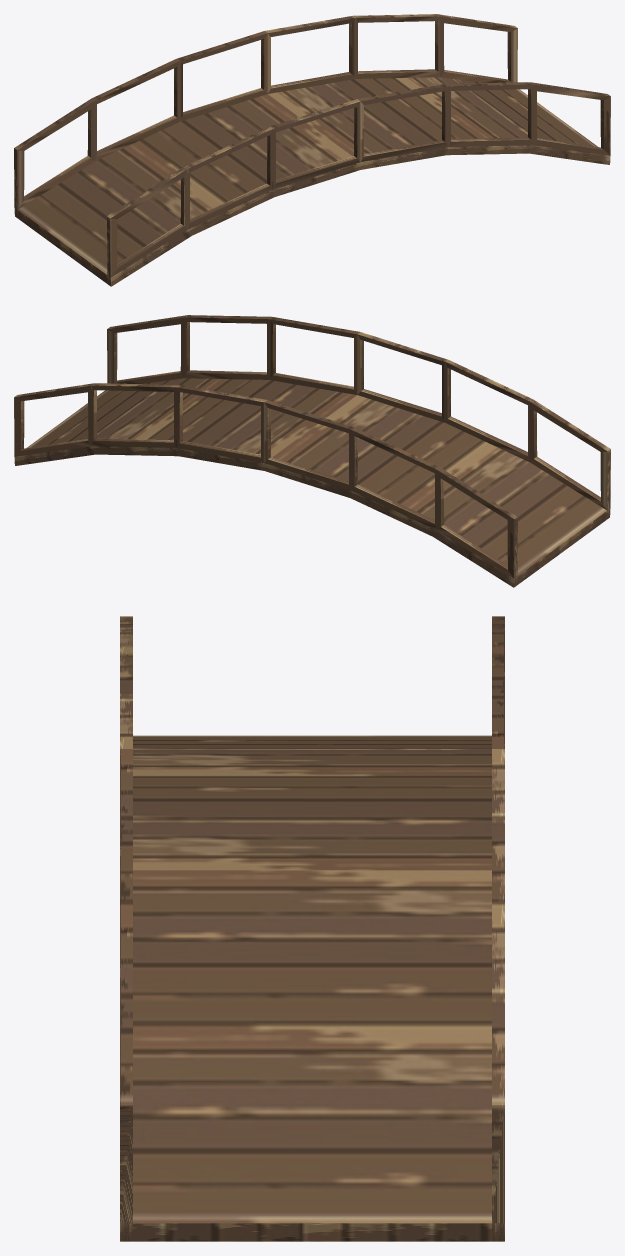
The model's file is Bridge_Model.FBX.
3 views of the same model, one above another, from view 1: azimuth 30°, elevation 25°; view 2: azimuth 150°, elevation 25°; view 3: azimuth 270°, elevation 25° (orthographic). The views are drawn at different scales.
Parts seen in each view (by area): view 1: Box001; view 2: Box001; view 3: Box001.
Part boxes in pixels (bbox=[...]): Box001: bbox=[14, 14, 610, 286]; Box001: bbox=[14, 315, 610, 587]; Box001: bbox=[120, 616, 504, 1241].
Size of the model in its own units: 71.51 by 17.01 by 23.8.
Materials: 1 (1 with a texture image).
